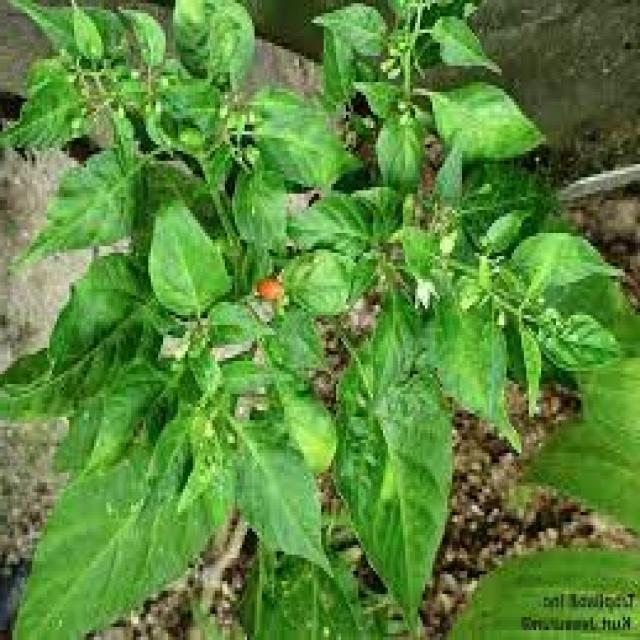sehat: (218, 419, 334, 581), (147, 192, 225, 316)
